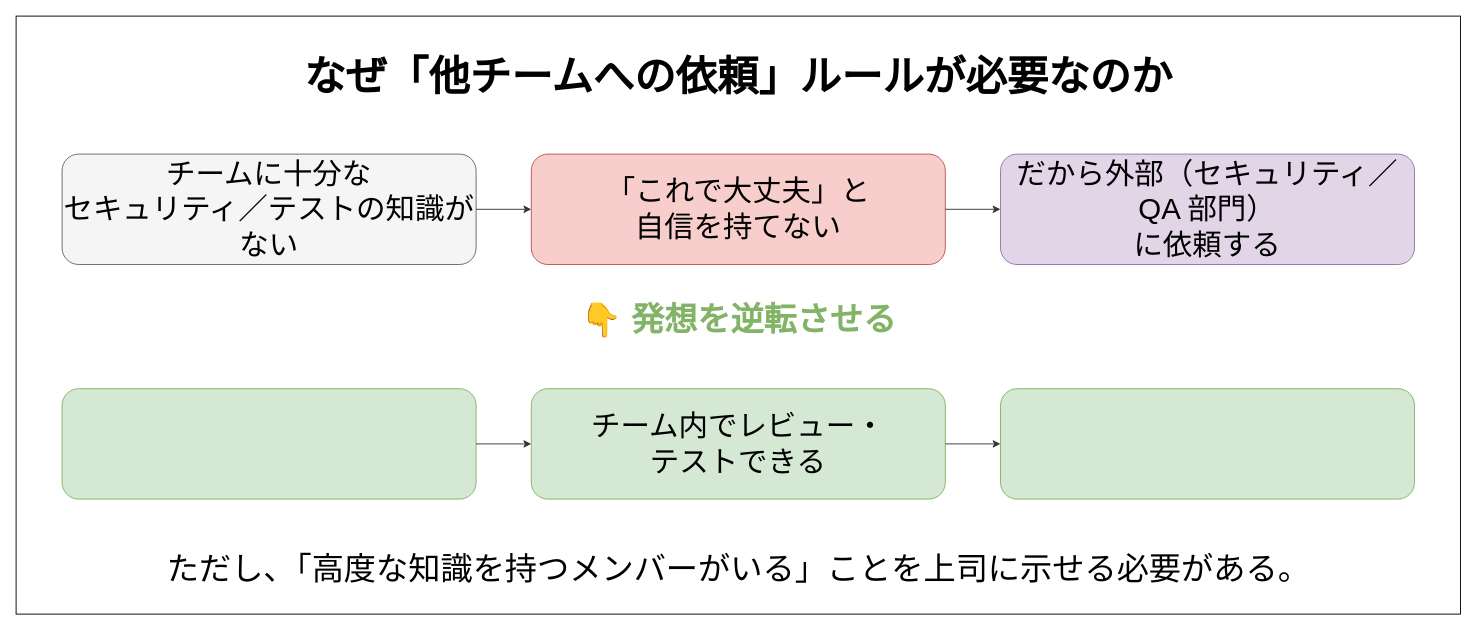
The diagram is 1477 pixels wide and 630 high, and some of its shapes have lost their labels. Here are the shapes that lost their labels. From the top down, the box of each, then its label:
(61, 388, 476, 499): チーム内に高度な知識を持つ メンバーを配置する
(1000, 388, 1414, 499): ✅ 外部への依頼が 不要になる
